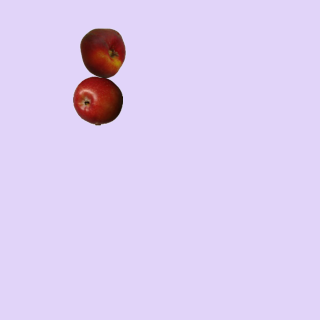Apple Braeburn: (72, 75, 122, 125)
Nectarine Flat: (77, 27, 127, 77)
